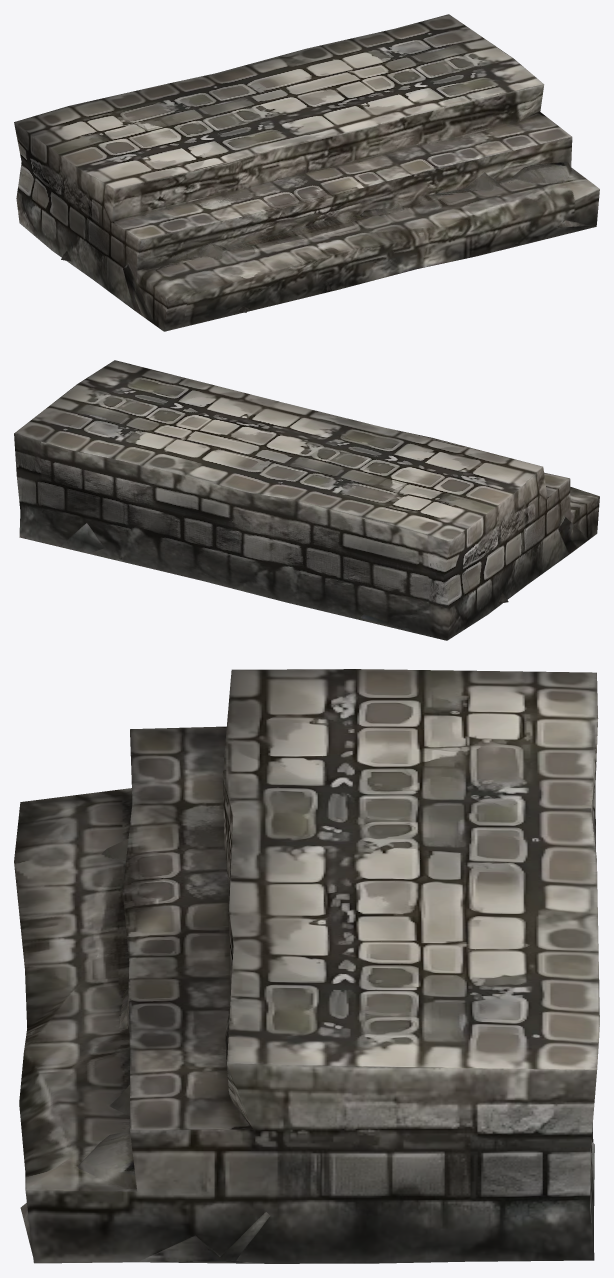
File: env_stairs.glb
The picture shows the model from 3 angles, top to bottom: view 1: azimuth 30°, elevation 25°; view 2: azimuth 150°, elevation 25°; view 3: azimuth 270°, elevation 25°; orthographic projection. The views are drawn at different scales.
Size of the model in its own units: 2 by 0.4586 by 1.22.
Materials: 1 (1 with a texture image).
